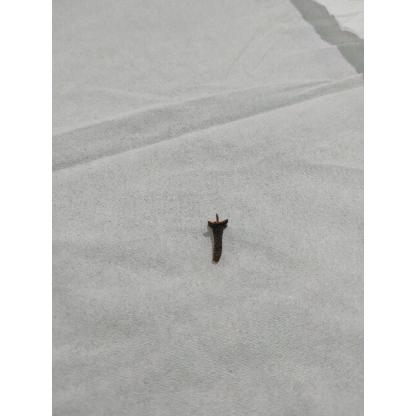buruk: (207, 215, 228, 264)
